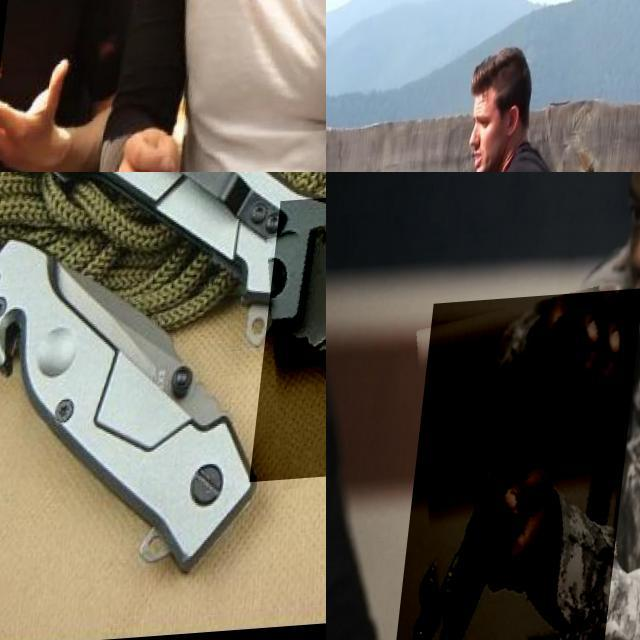-: (260, 188, 326, 487), (0, 0, 46, 101)
gun-knife-thesis - v11 Yolov5 augmented: (408, 294, 640, 640)
